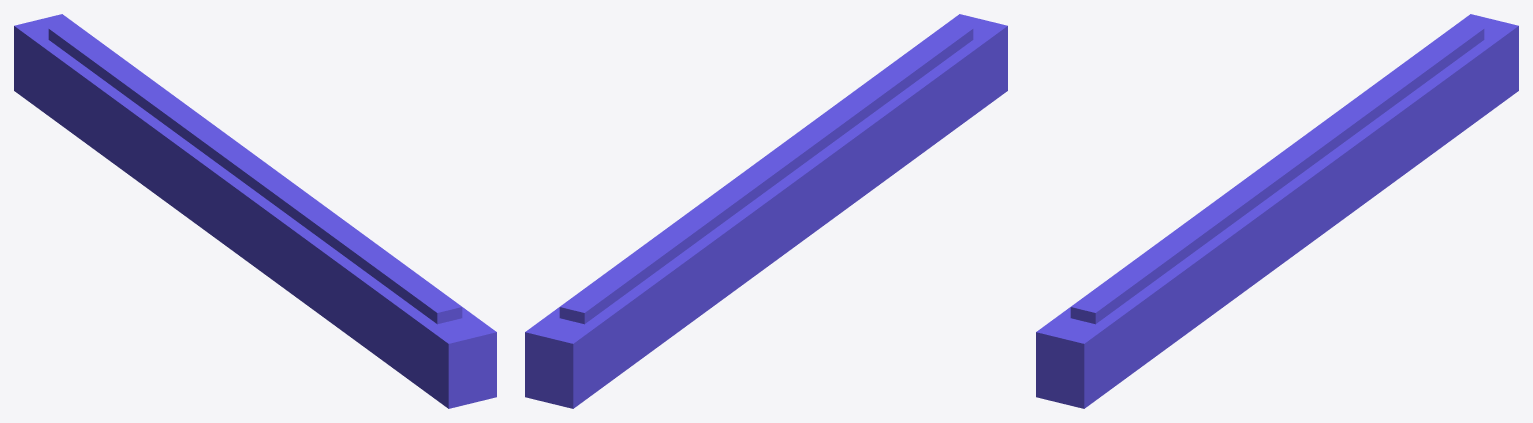
File: scianka2.glb
The picture shows the model from 3 angles, left to right: view 1: azimuth 30°, elevation 25°; view 2: azimuth 150°, elevation 25°; view 3: azimuth 330°, elevation 25°; orthographic projection.
Visible parts, largest first — view 1: Cube.004; view 2: Cube.004; view 3: Cube.004.
Boxes of the visible parts, x1=… form: Cube.004: x1=14, y1=14, x2=496, y2=408; Cube.004: x1=525, y1=14, x2=1007, y2=408; Cube.004: x1=1036, y1=14, x2=1518, y2=408.
Bounding box in the file's own units: 1.55 × 2.35 × 24.22.
